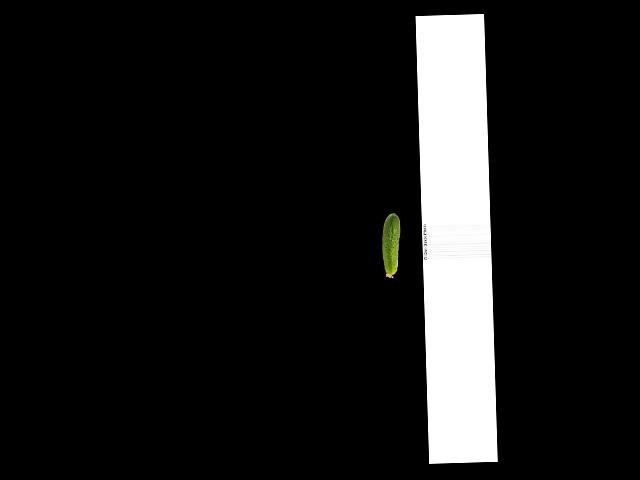cucumber: (381, 212, 401, 278)
